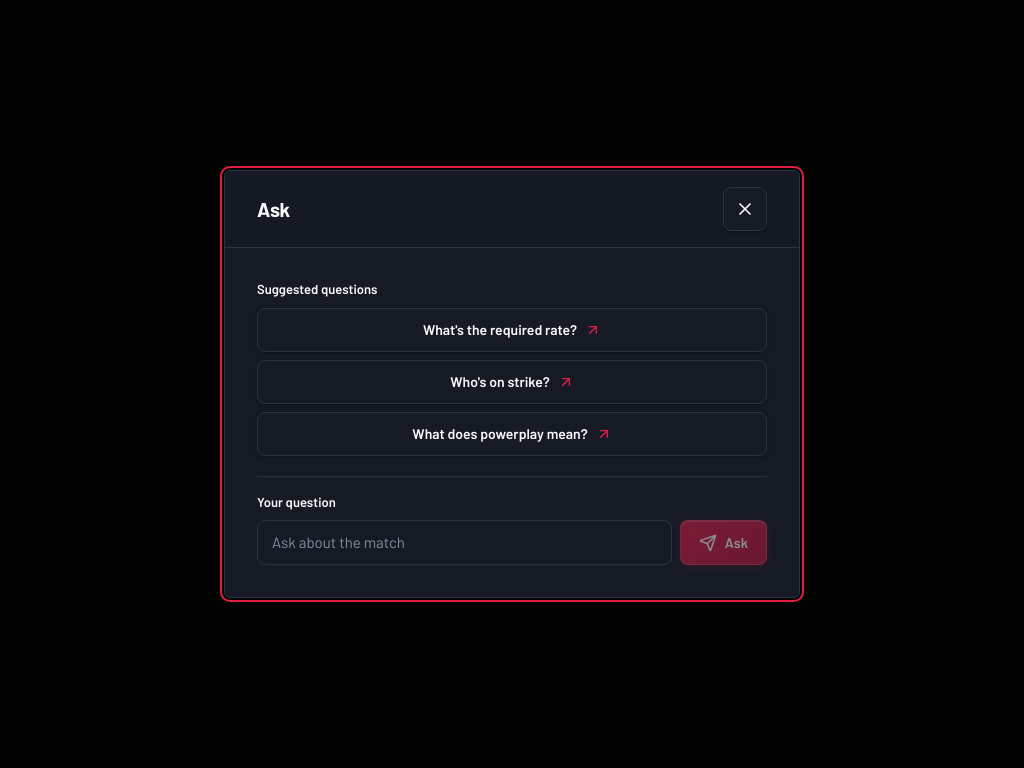
Frontend submission feedback › shows a recoverable question error without losing the question
Type "Who is on strike?" into the field at [464, 543], box [257,520,672,565]
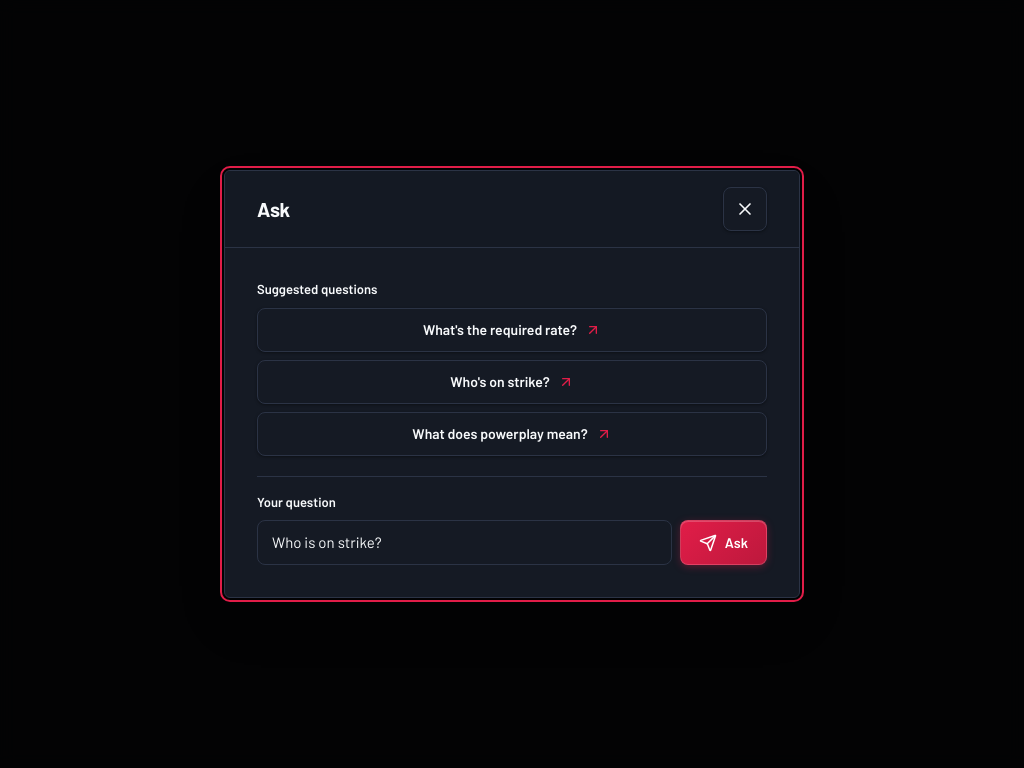
Submit the form, box [257,476,767,565]
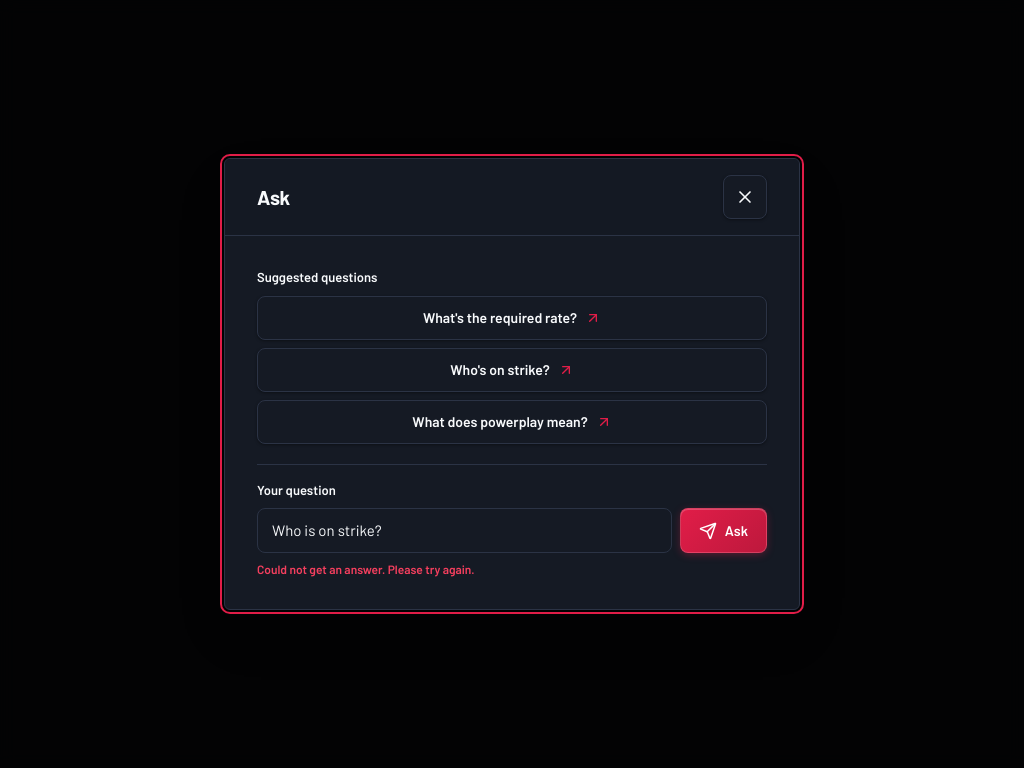
Result: the button "Ask" is enabled at [680,508,767,553]
Result: the message shows "try again" at [257,562,474,576]
